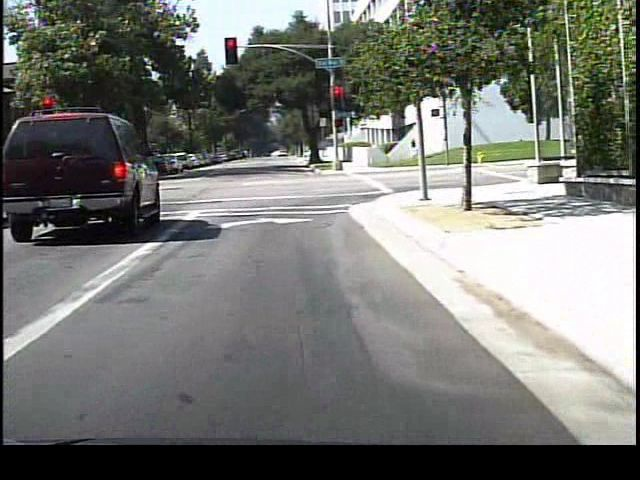person: (407, 127, 429, 168)
